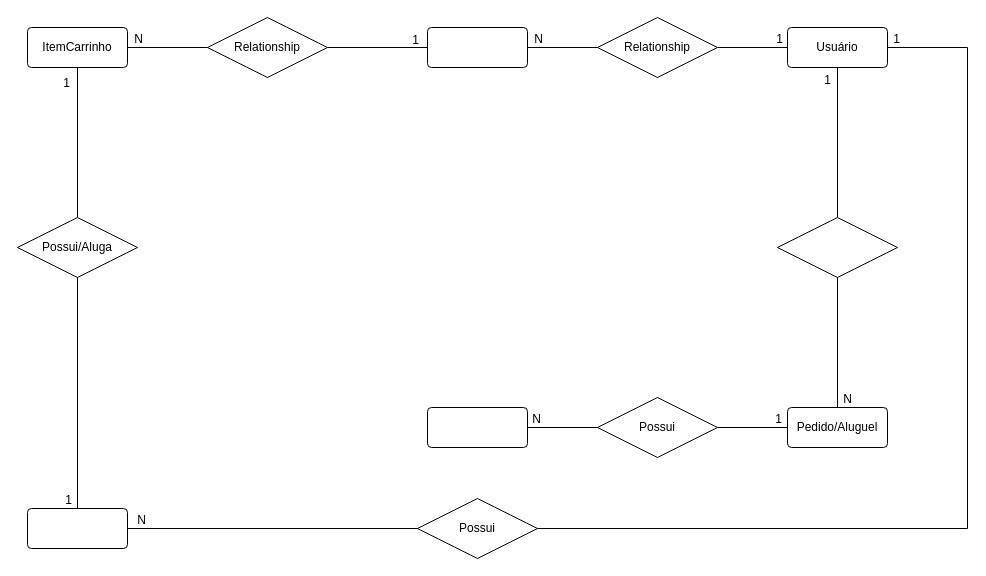
Some shapes in this 986 by 576 pixel diagram are drawn without their labels. Here are the shapes that lost their labels. From the top down, the centre of each, then its label:
point 477,47: Carrinho
point 837,247: Faz
point 477,427: Pagamento
point 77,528: Equipamento
